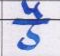ai_matra: (22, 0, 45, 19)
